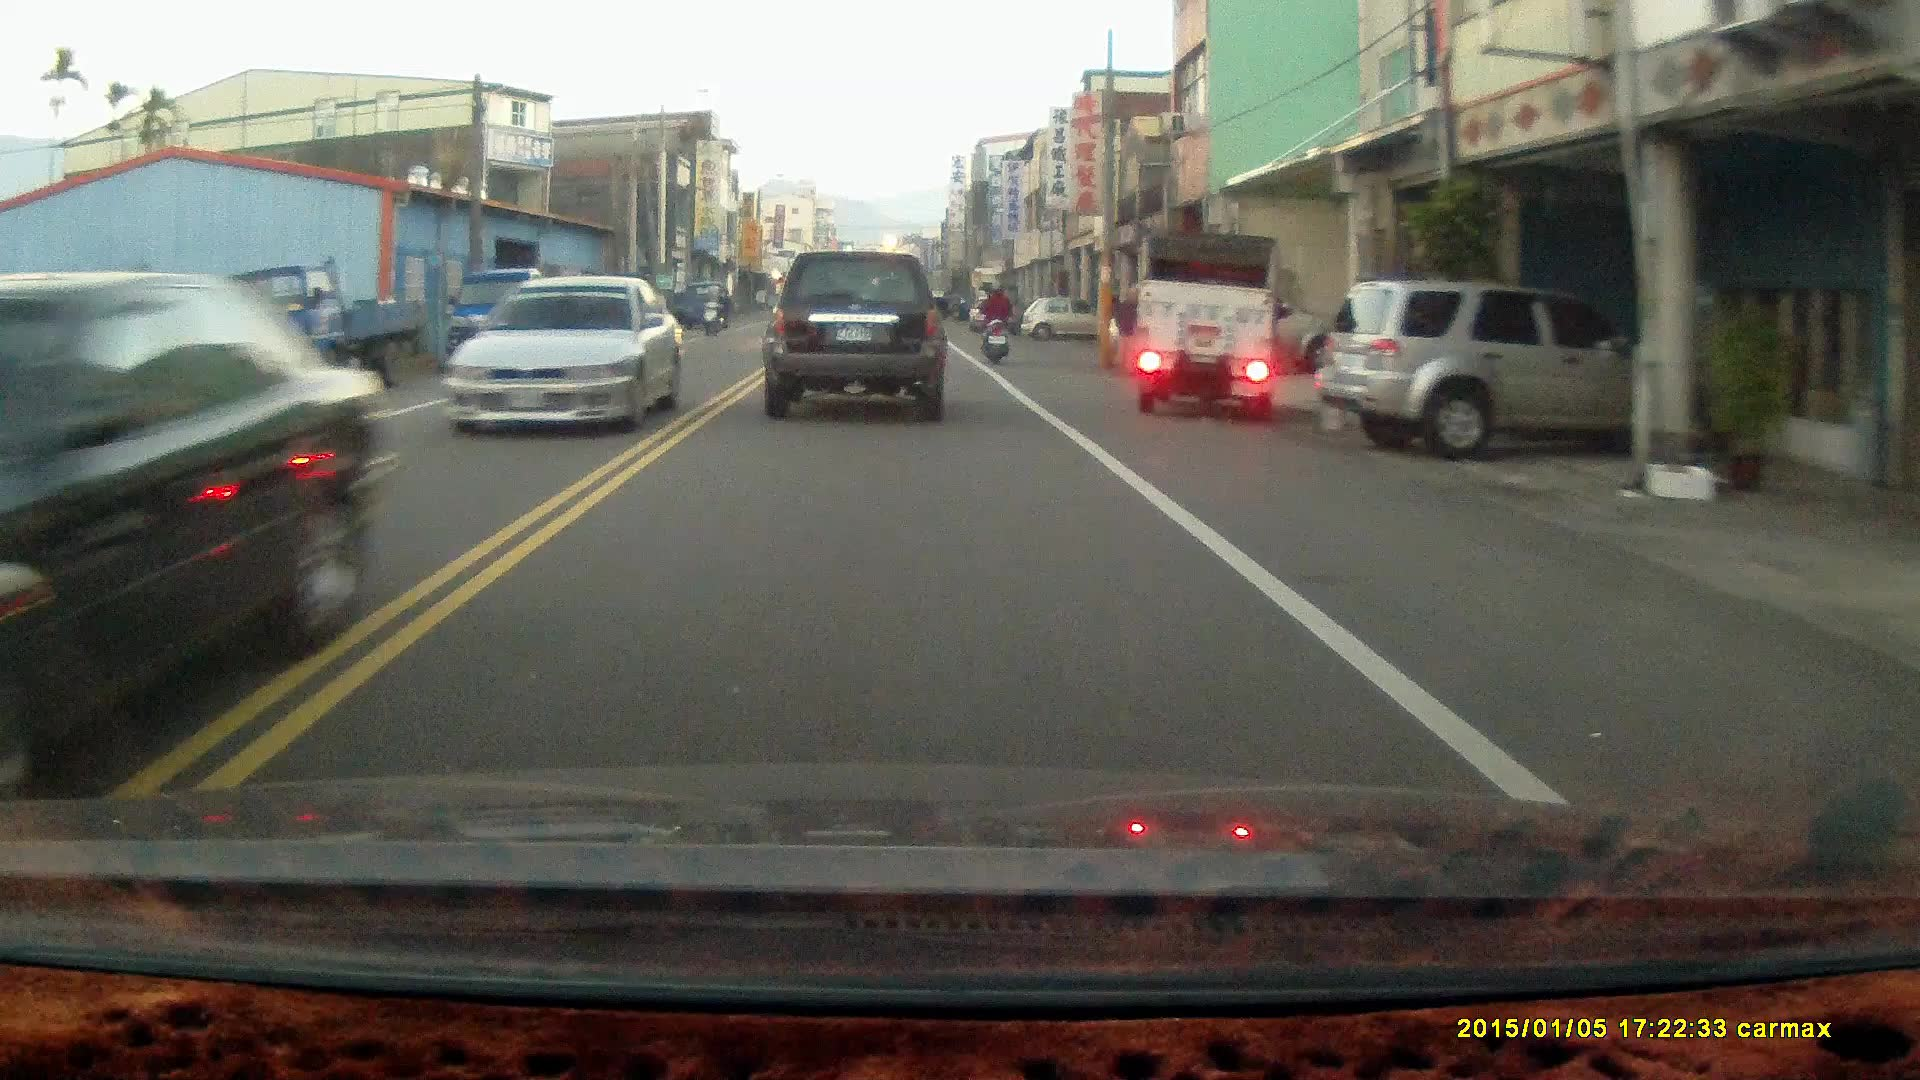pedestrian: (1112, 286, 1143, 377)
rider: (977, 282, 1013, 368), (700, 280, 729, 339)
vehicle: (1, 271, 400, 794), (1325, 279, 1646, 459), (447, 275, 680, 438), (202, 259, 432, 408), (766, 252, 950, 426), (1135, 230, 1284, 418), (1024, 295, 1098, 349)
